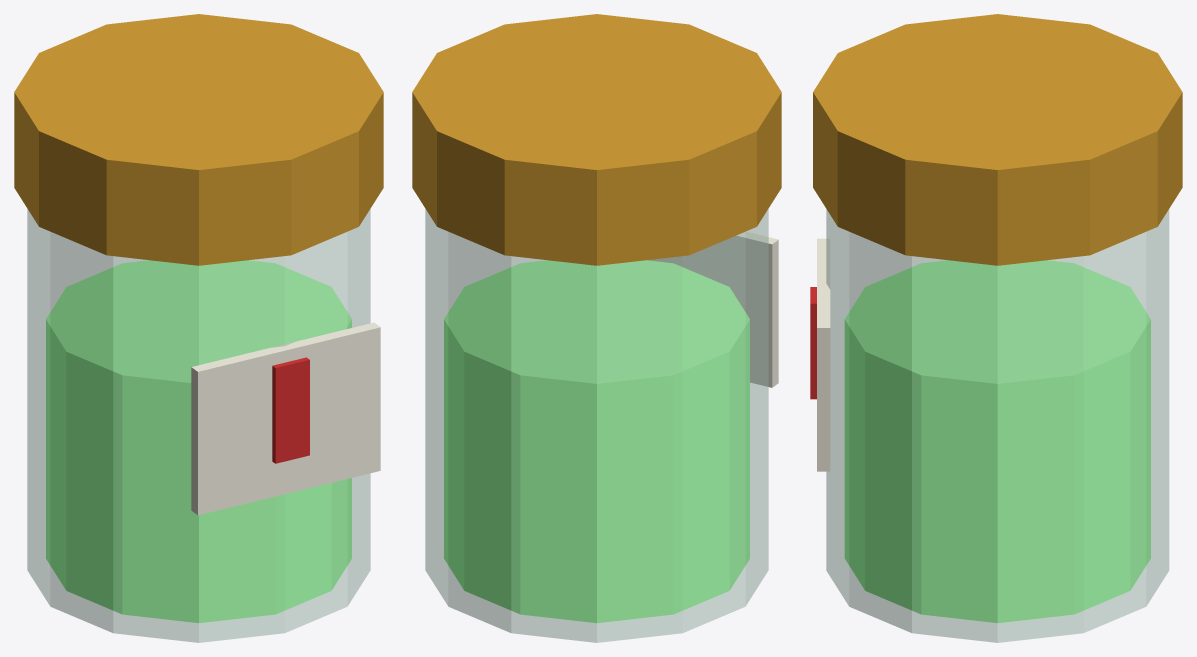
Rendered from secret_jar.glb.
The picture shows the model from 3 angles, left to right: view 1: azimuth 30°, elevation 25°; view 2: azimuth 150°, elevation 25°; view 3: azimuth 270°, elevation 25°; orthographic projection.
Parts seen in each view (by area): view 1: jar_jar_glass, lid_jar_lid, powder_jar_powder, label_jar_label, mark_jar_mark; view 2: jar_jar_glass, powder_jar_powder, lid_jar_lid, label_jar_label; view 3: jar_jar_glass, powder_jar_powder, lid_jar_lid, label_jar_label, mark_jar_mark.
Part boxes in pixels (x1,y1,x2,y2): jar_jar_glass: [27, 209, 370, 642]; lid_jar_lid: [14, 14, 383, 265]; powder_jar_powder: [46, 260, 351, 622]; label_jar_label: [191, 322, 380, 515]; mark_jar_mark: [272, 357, 309, 463]; jar_jar_glass: [425, 209, 768, 642]; powder_jar_powder: [444, 260, 749, 622]; lid_jar_lid: [412, 14, 781, 265]; label_jar_label: [647, 231, 778, 387]; jar_jar_glass: [826, 209, 1169, 642]; powder_jar_powder: [844, 260, 1150, 622]; lid_jar_lid: [813, 14, 1182, 265]; label_jar_label: [817, 238, 830, 471]; mark_jar_mark: [810, 287, 816, 399].
Size of the model in its own units: 0.14 by 0.2 by 0.141.
